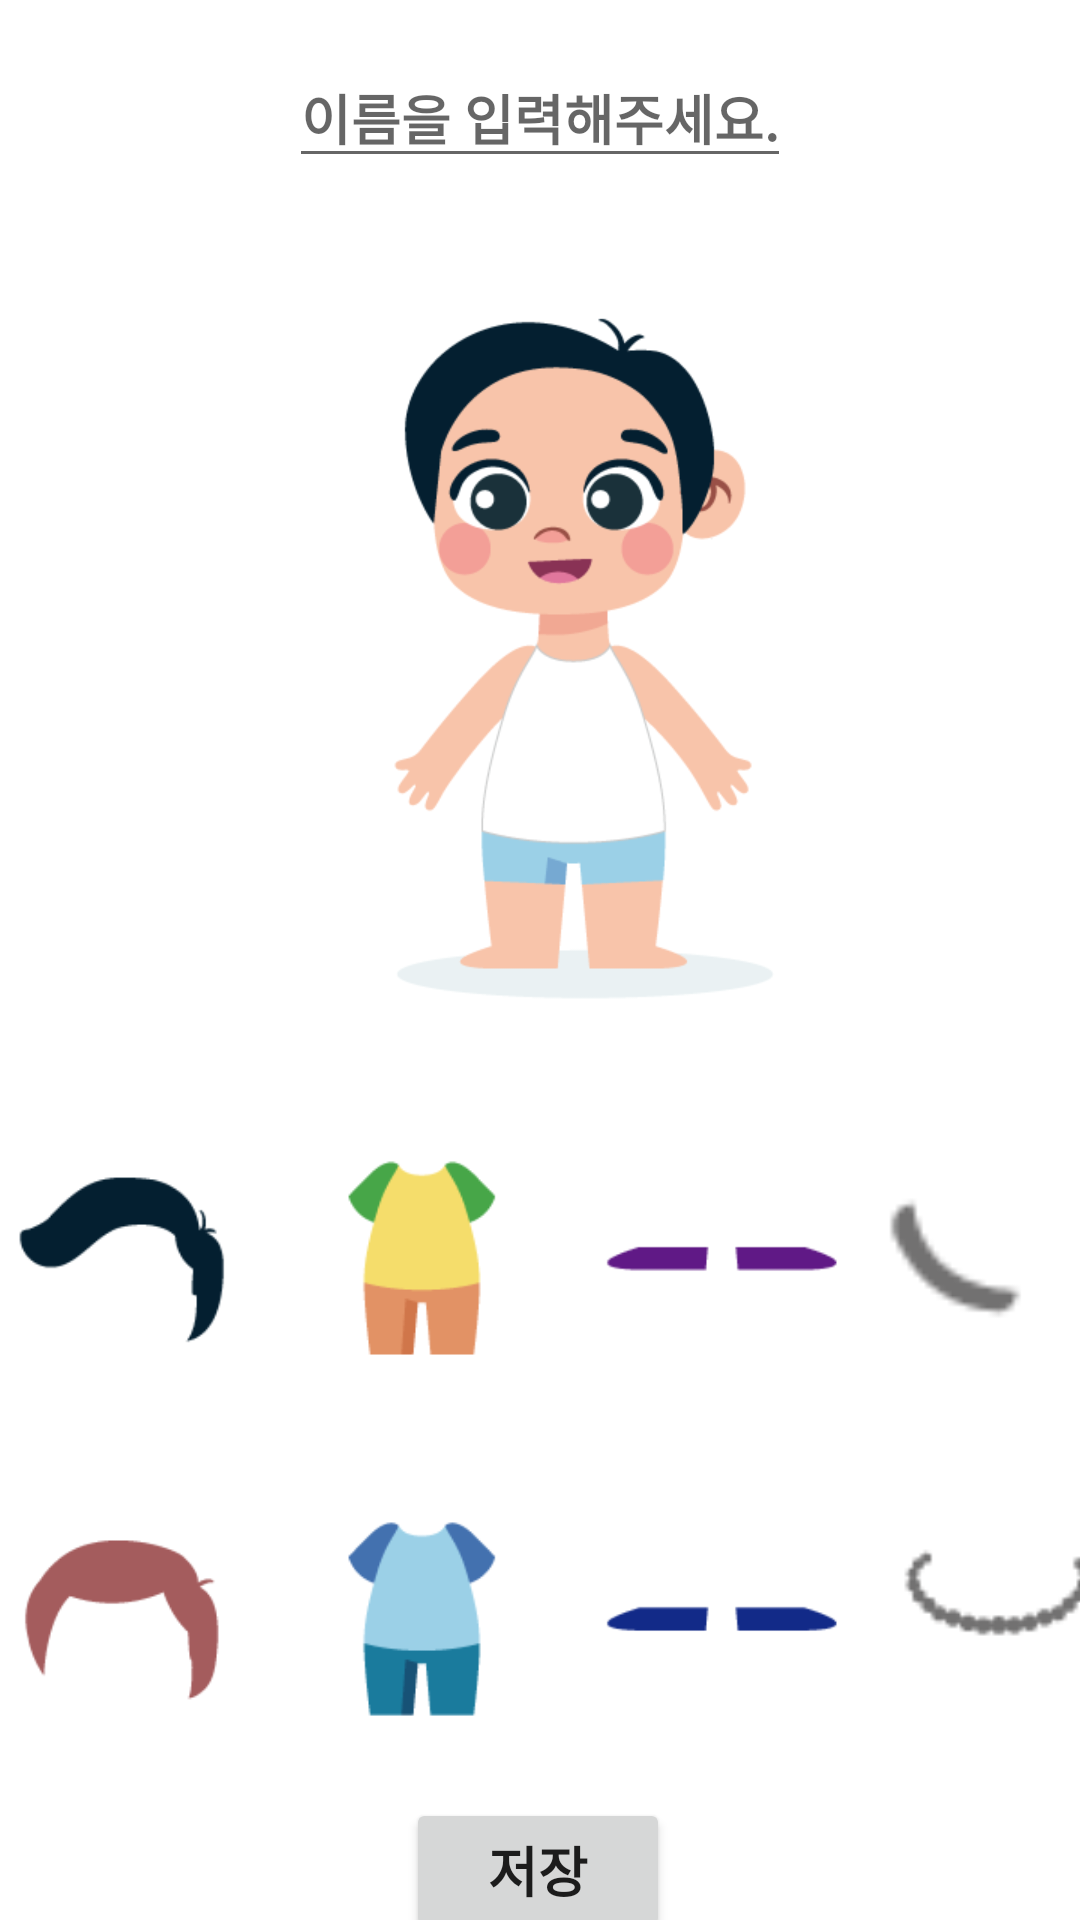

Icon bounding boxes for this 1080px x 1920px phone screenshot, format (x1, y1, x2, y2):
manclothes change: (348, 1161, 496, 1355), (348, 1522, 496, 1716)
manhair change: (19, 1177, 224, 1342), (25, 1540, 219, 1699)
